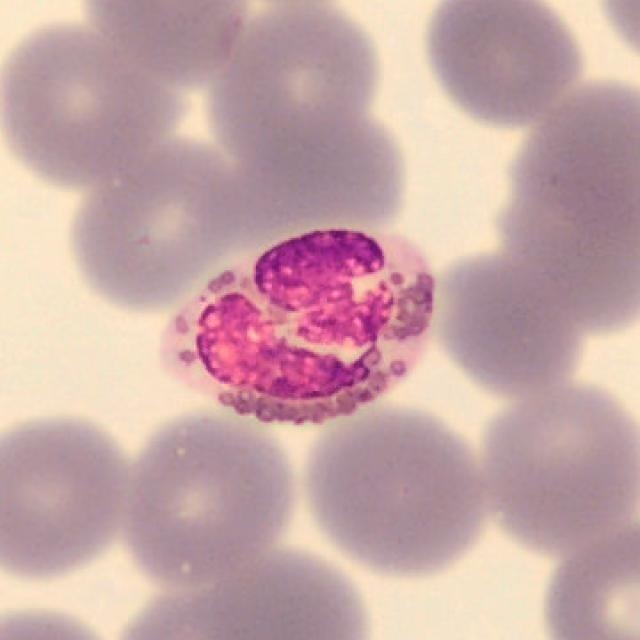Eosinofilo: (160, 229, 437, 427)
